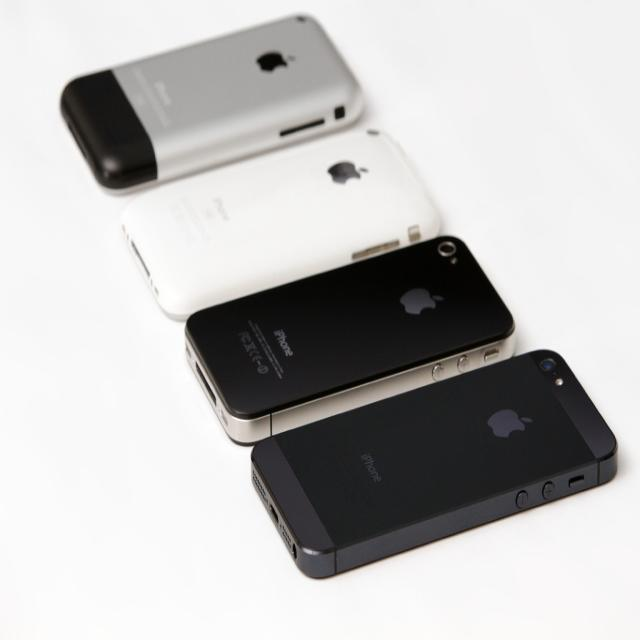Mobile phone: (249, 349, 618, 577), (182, 232, 516, 445), (120, 122, 442, 320), (73, 24, 386, 195)
